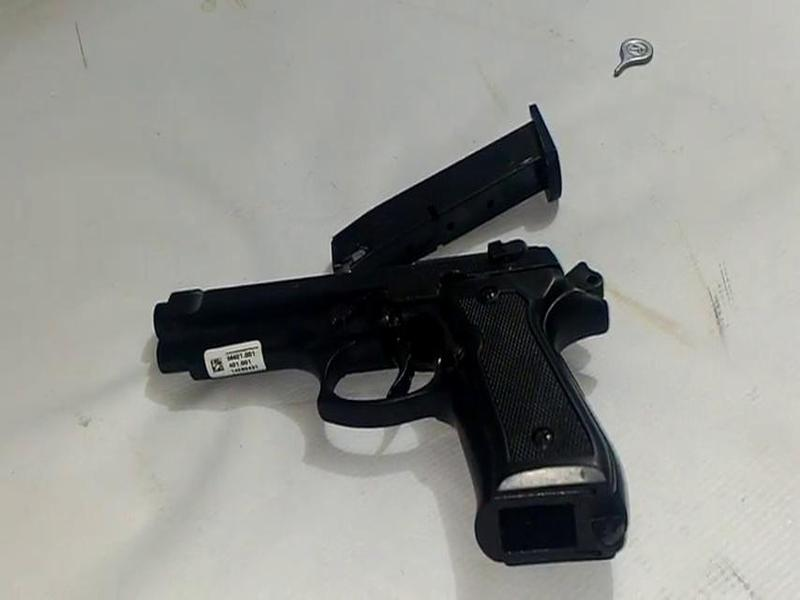Pistola: (141, 260, 671, 550)
